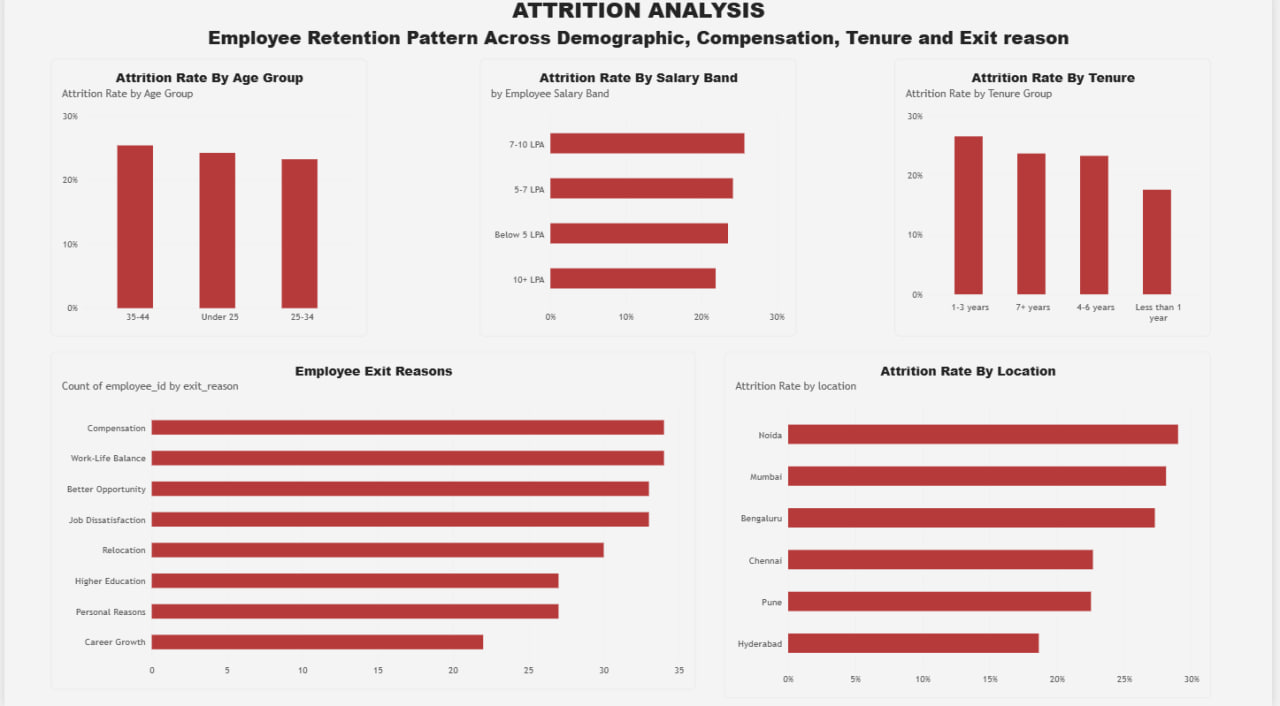

What the dashboard file says about the page in this screenshot:
{"tool":"powerbi","page":{"name":"Attrition Analysis","canvas":[1920,1080],"ordinal":1},"visuals":[{"type":"clusteredColumnChart","title":"Attrition Rate By Age Group","fields":{"Category":["employees.Age Group"],"Y":["employees.Attrition Rate"]},"box":[70.3,97.1,479,420.4],"z":0},{"type":"clusteredBarChart","fields":{"Category":["employees.Employee Salary Band"],"Y":["employees.Attrition Rate"]},"box":[720.2,97.1,479,420.4],"z":1},{"type":"clusteredColumnChart","title":"Attrition Rate By Tenure","fields":{"Category":["employees.Tenure Group"],"Y":["employees.Attrition Rate"]},"box":[1348.3,97.1,479,420.4],"z":2},{"type":"clusteredBarChart","title":"Employee Exit Reasons","fields":{"Category":["employee_exit.exit_reason"],"Y":["CountNonNull(employee_exit.employee_id)"]},"box":[69.8,540.7,976.7,512.8],"z":3},{"type":"clusteredBarChart","title":"Attrition Rate By Location","fields":{"Category":["employees.location"],"Y":["employees.Attrition Rate"]},"box":[1090.4,541,737,525.9],"z":4},{"type":"textbox","box":[0,0,1921.2,97.1],"z":5}]}

Visuals, with their boxes in screenshot pixels (x1, y1, x2, y2), scaled from the page's 1920x1080 canvas onto the 1280x706 screenshot:
"Attrition Rate By Age Group" clusteredColumnChart: BBox(47, 63, 366, 338)
clusteredBarChart - employees.Employee Salary Band x employees.Attrition Rate: BBox(480, 63, 799, 338)
"Attrition Rate By Tenure" clusteredColumnChart: BBox(899, 63, 1218, 338)
"Employee Exit Reasons" clusteredBarChart: BBox(47, 353, 698, 689)
"Attrition Rate By Location" clusteredBarChart: BBox(727, 354, 1218, 697)
textbox: BBox(0, 0, 1279, 63)
